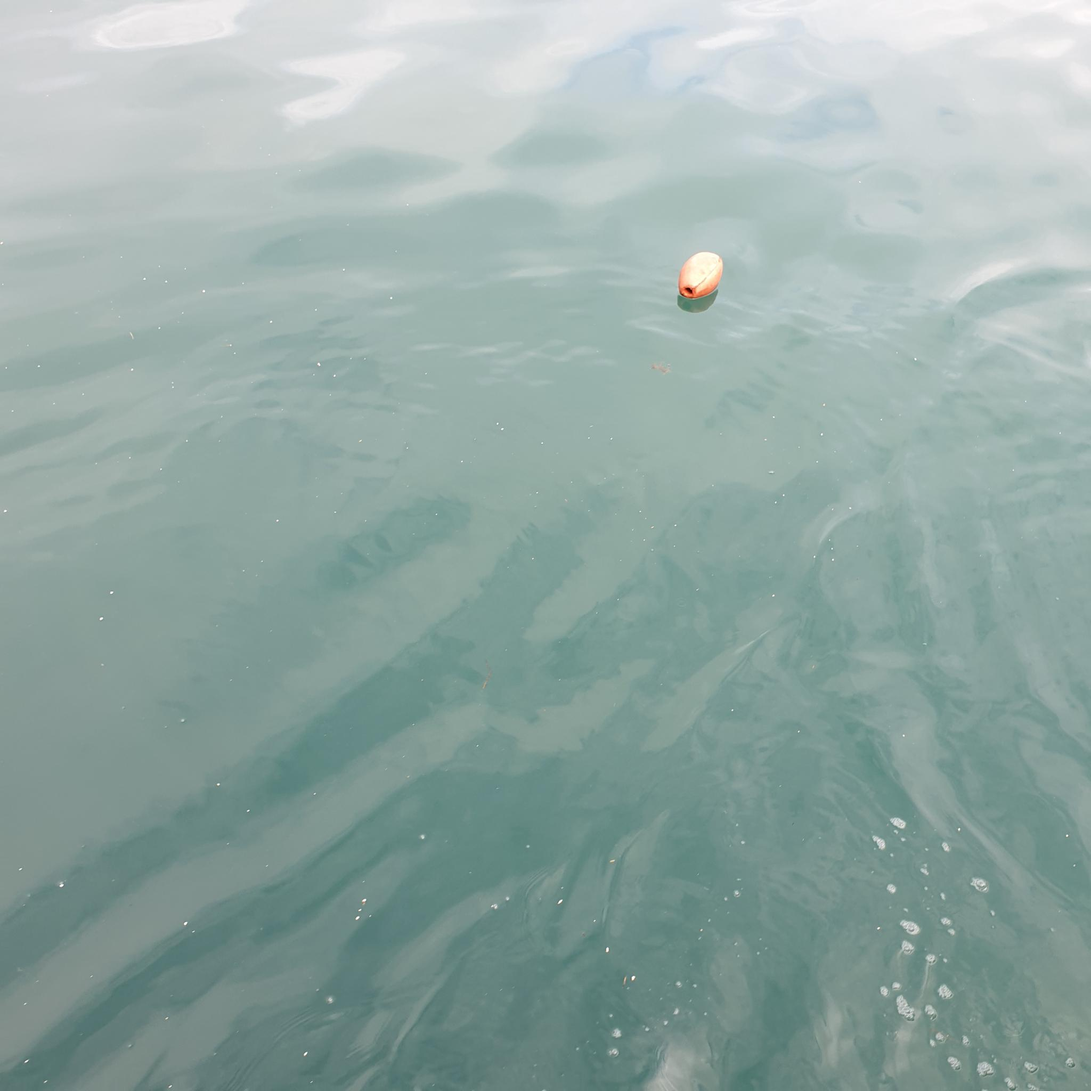sampah_terapung: (679, 252, 723, 299)
